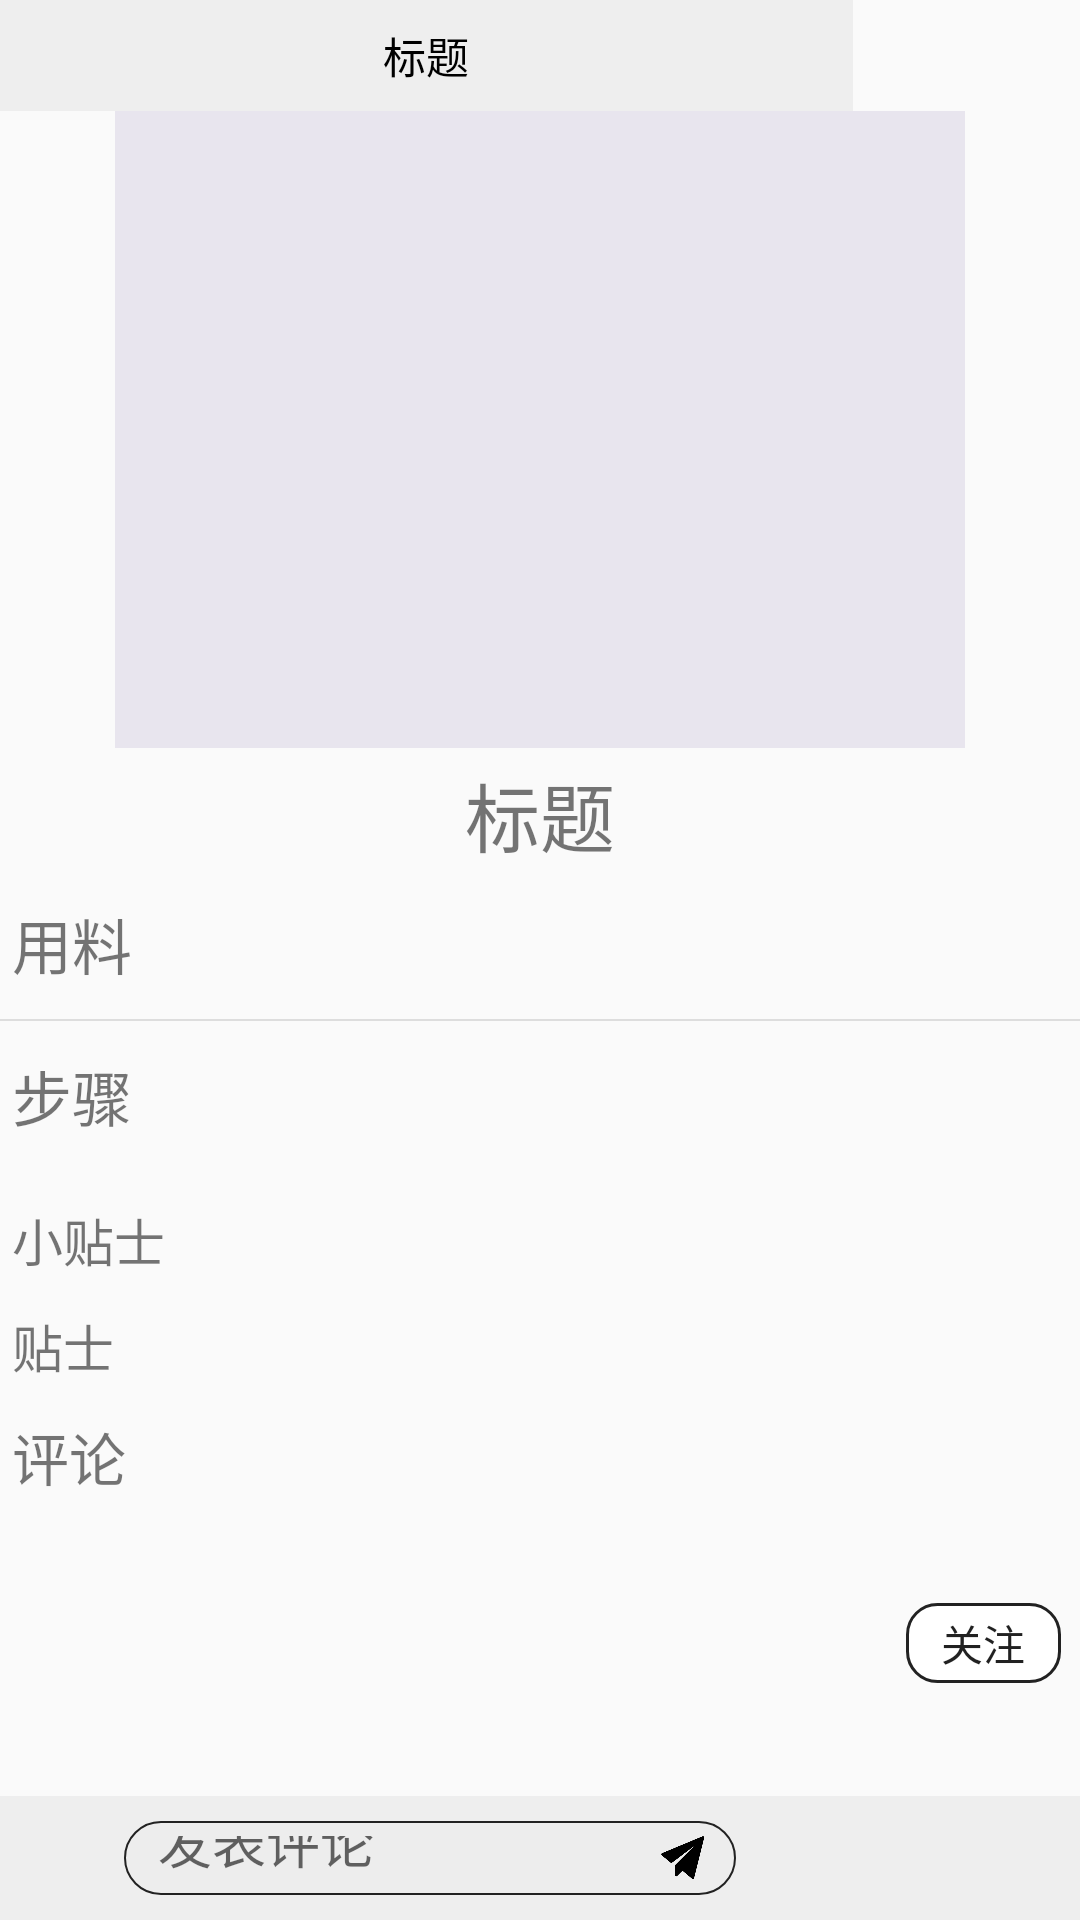

Icon click points for this 1080w x 1920h phone screenshot, format (x,y):
send: (682,1857)
